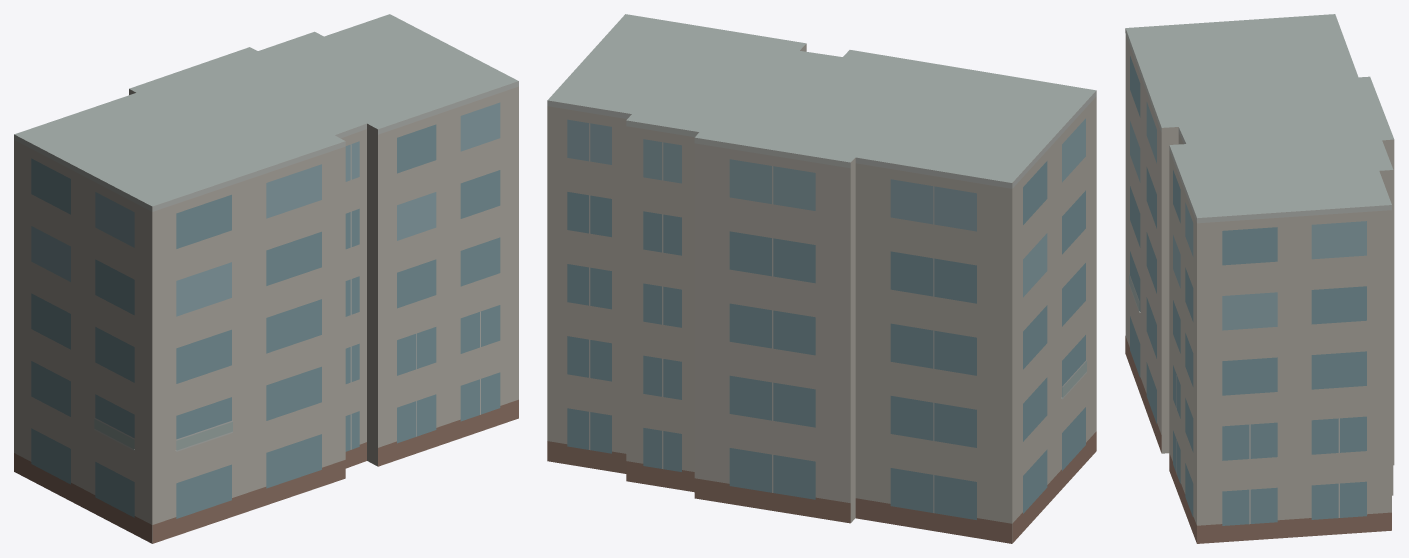
Rendered from survey-upis-32968037.glb.
The picture shows the model from 3 angles, left to right: view 1: azimuth 30°, elevation 25°; view 2: azimuth 150°, elevation 25°; view 3: azimuth 270°, elevation 25°; orthographic projection. The views are drawn at different scales.
Visible parts, largest first — view 1: survey-upis-32968037.tmp; view 2: survey-upis-32968037.tmp; view 3: survey-upis-32968037.tmp.
Part boxes in pixels (box(x1,y1,x2,y2)): survey-upis-32968037.tmp: box(14, 14, 518, 543); survey-upis-32968037.tmp: box(547, 14, 1096, 543); survey-upis-32968037.tmp: box(1125, 14, 1394, 543).
Size of the model in its own units: 20.51 by 15.25 by 11.42.
